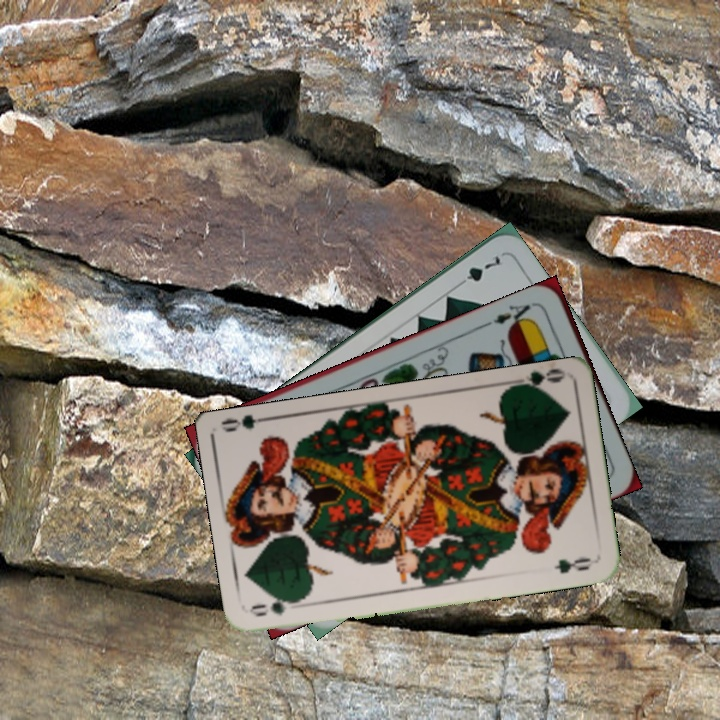EA: (482, 298, 539, 332)
G7: (451, 251, 505, 290)
GO: (507, 365, 567, 395), (249, 593, 306, 620)
